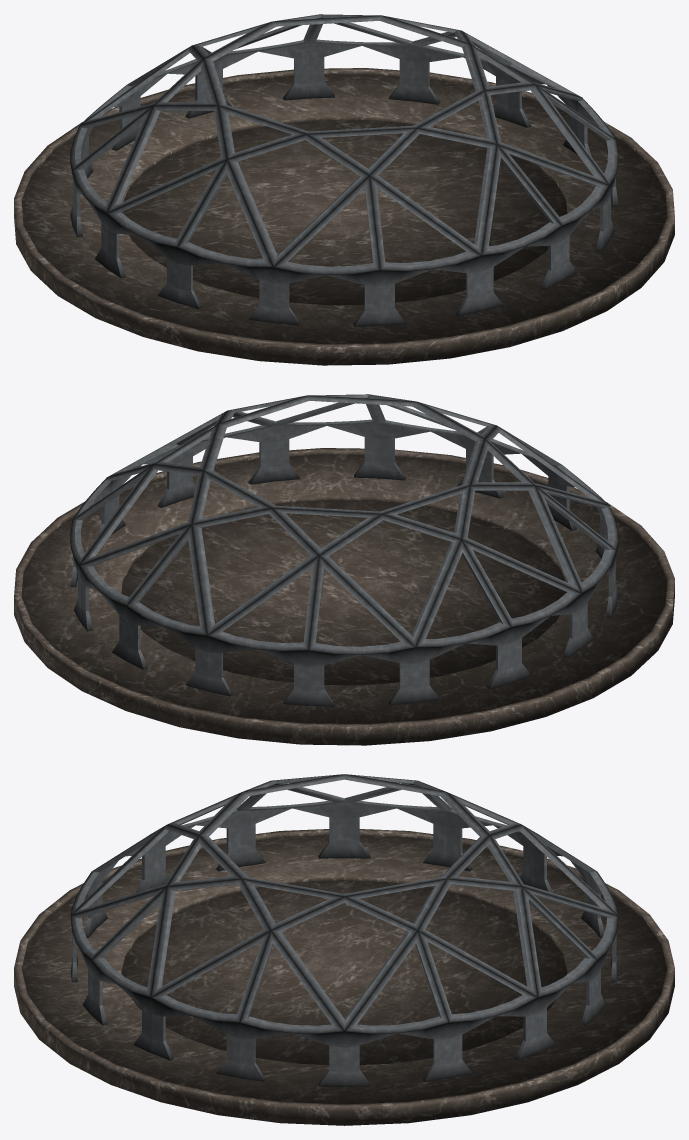
Rendered from dome2.glb.
The picture shows the model from 3 angles, top to bottom: view 1: azimuth 30°, elevation 25°; view 2: azimuth 150°, elevation 25°; view 3: azimuth 270°, elevation 25°; orthographic projection.
Visible parts, largest first — view 1: Circle, Frame; view 2: Circle, Frame; view 3: Circle, Frame.
Part boxes in pixels (<box>): Circle: <box>14,68,674,365</box>; Frame: <box>70,14,618,326</box>; Circle: <box>14,448,674,745</box>; Frame: <box>70,394,618,706</box>; Circle: <box>14,829,674,1125</box>; Frame: <box>70,774,618,1086</box>.
Bounding box in the file's own units: 54.6 × 13.73 × 54.6.
Materials: 2 (2 with a texture image).
